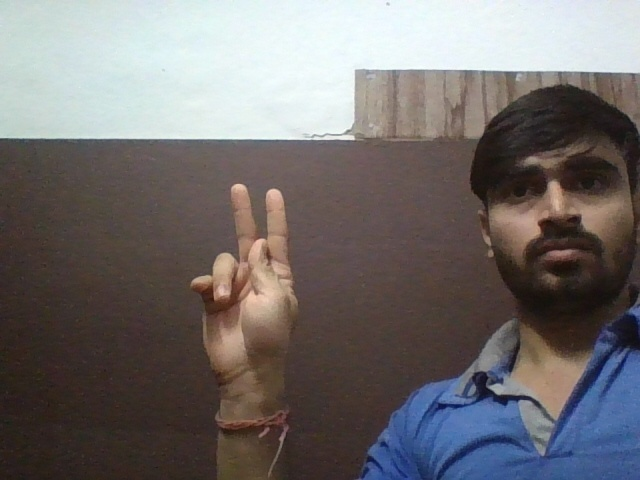K: (188, 176, 309, 387)
